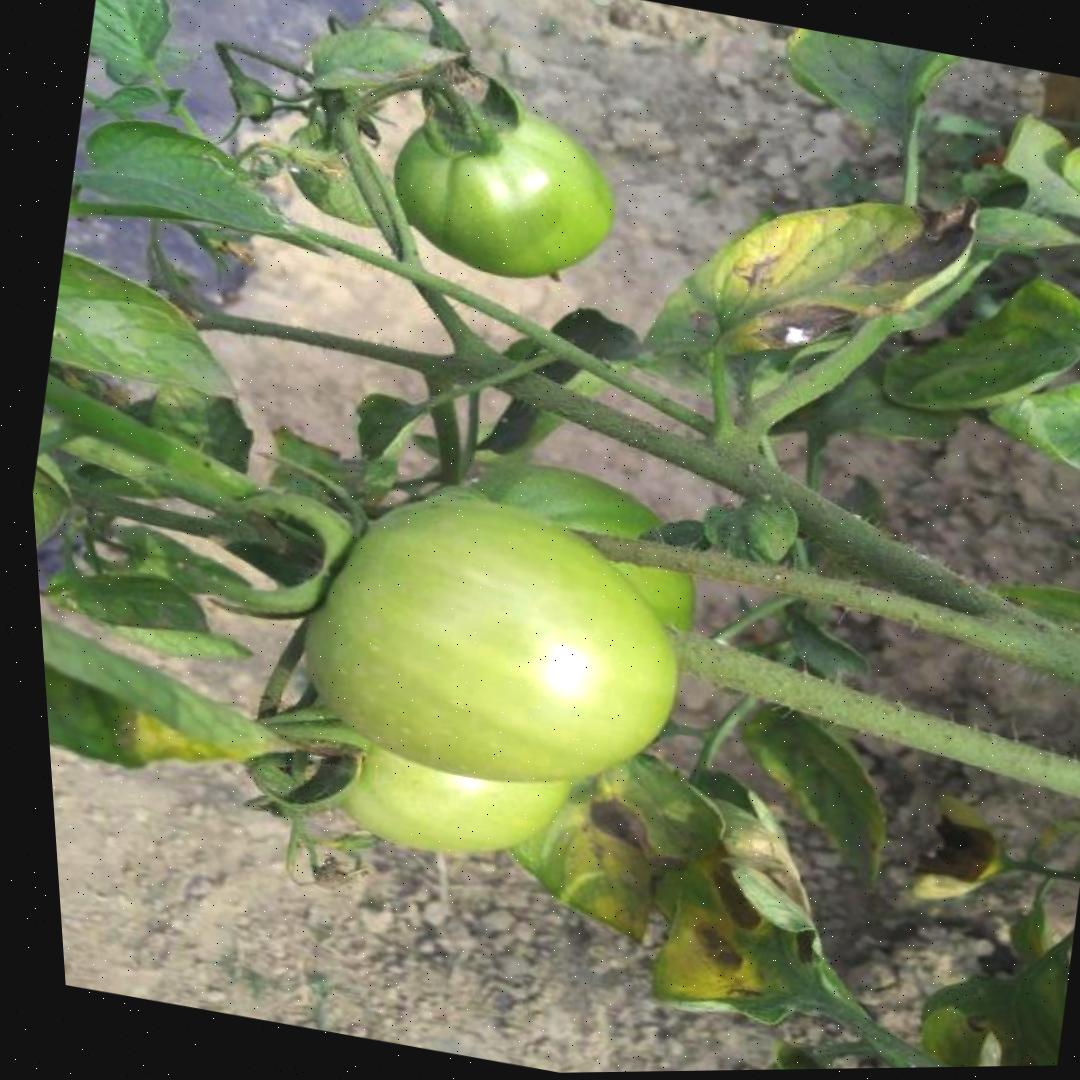mentah: (270, 461, 716, 818), (368, 82, 635, 298)
